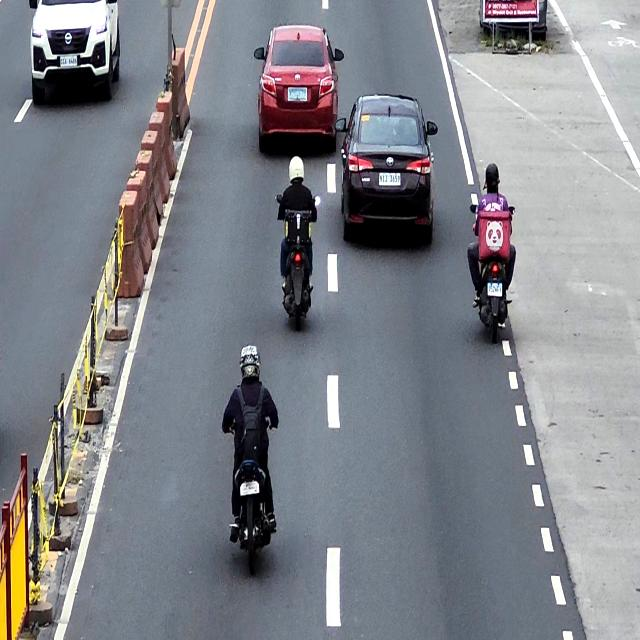Car: (336, 93, 438, 244), (254, 24, 345, 155), (30, 0, 121, 103)
License-Plate: (378, 172, 401, 186), (239, 481, 260, 495), (288, 87, 307, 101), (59, 56, 78, 68), (488, 283, 502, 297)
Motorcycle: (226, 400, 278, 578), (470, 200, 515, 346), (276, 190, 320, 330)
